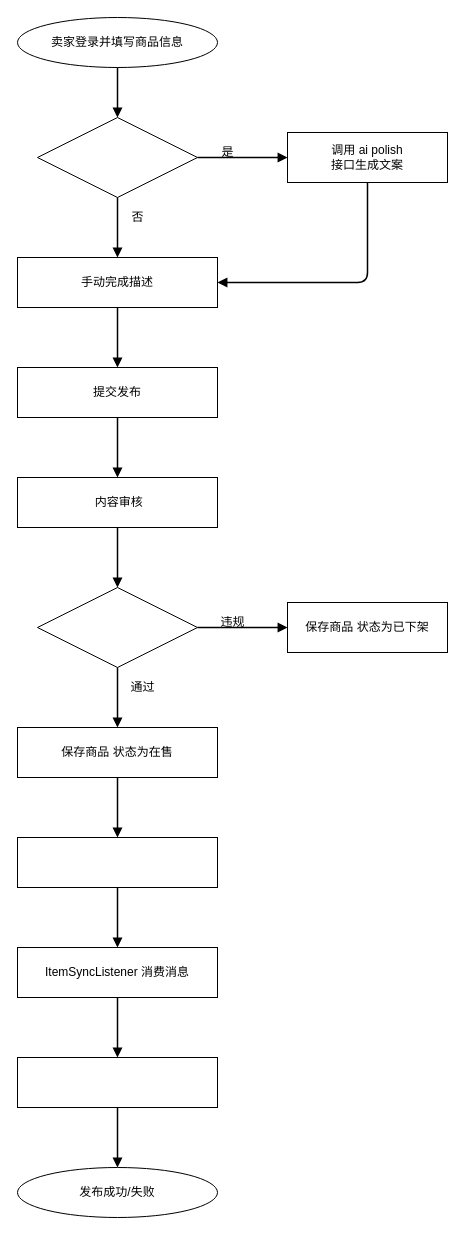
This 465x1235 diagram has some shape labels left out. Here are the shapes that lost their labels. From the top down, the centre of each, then its label:
At (x=117, y=157): "是否使用AI润色".
At (x=117, y=627): "审核是否通过".
At (x=117, y=862): "发送 ItemSyncMessage 到 RocketMQ".
At (x=117, y=1082): "doSyncToEs 同步至 ES 和 PgVector".
